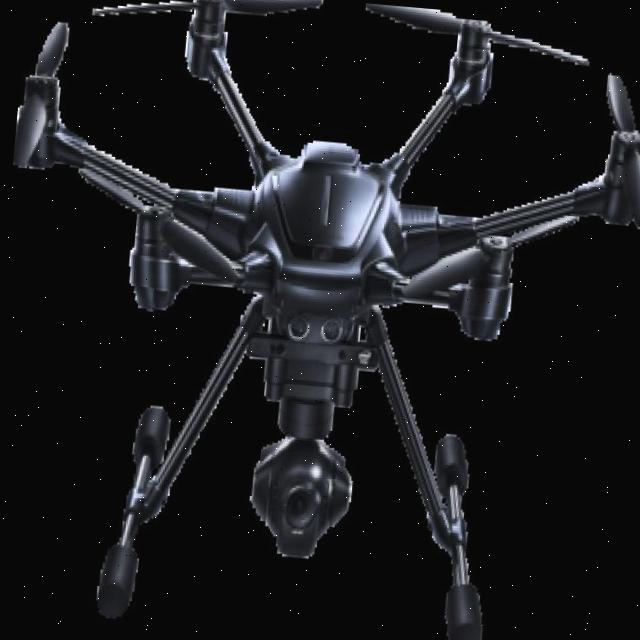drone: (0, 0, 640, 397)
